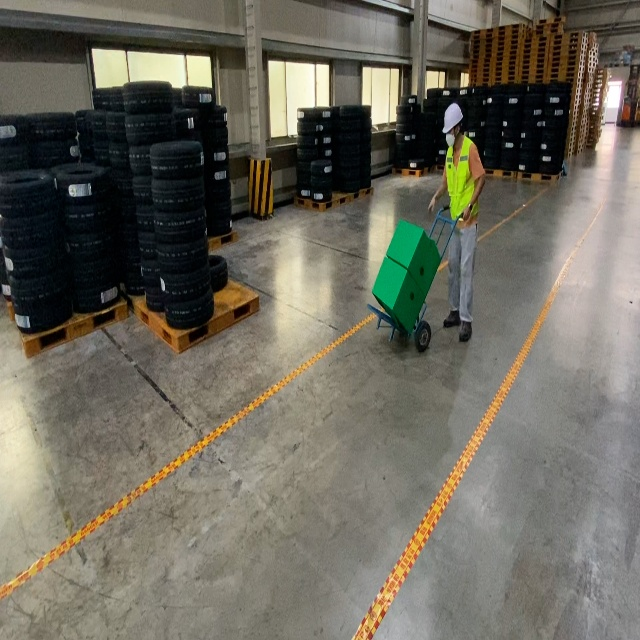Box: (386, 218, 441, 297), (372, 257, 426, 334)
Worker: (428, 102, 486, 343)
